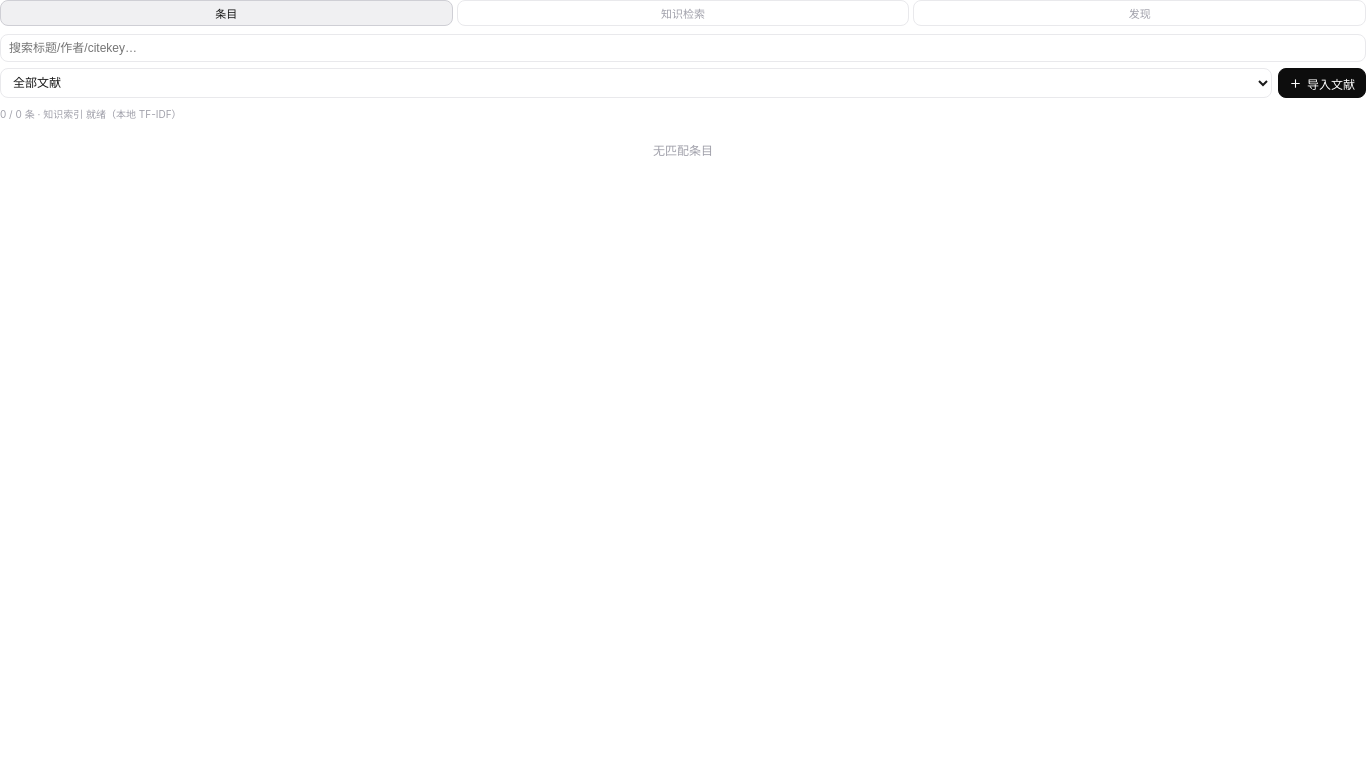
LibraryPanel · Bib 清理向导 › 自动去重 → 预览：删除条目/行数统计 + 前 3 组被删 key，确认按钮出现
Click the button "导入文献" at (1322, 83), box [1278,68,1365,98]
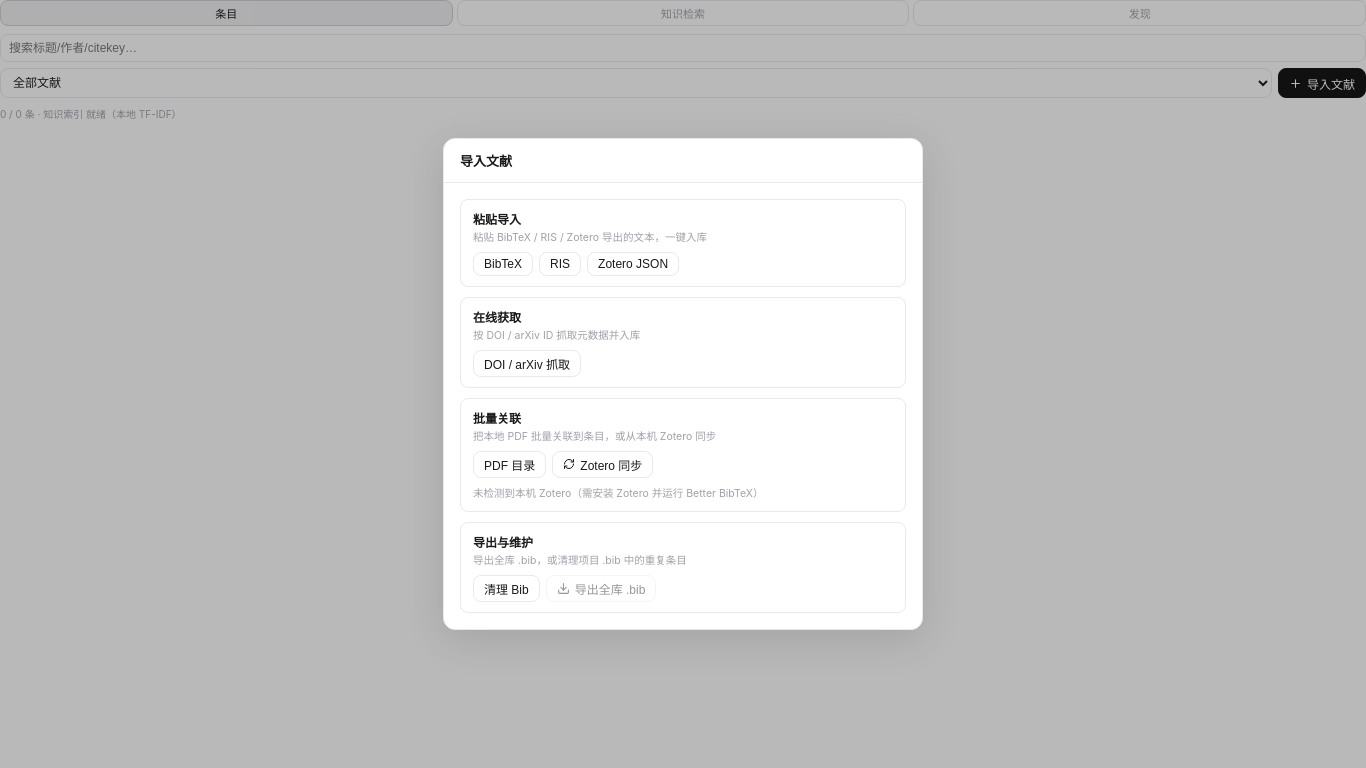
Click the button "清理 Bib" at (506, 589), box [473,575,540,602]
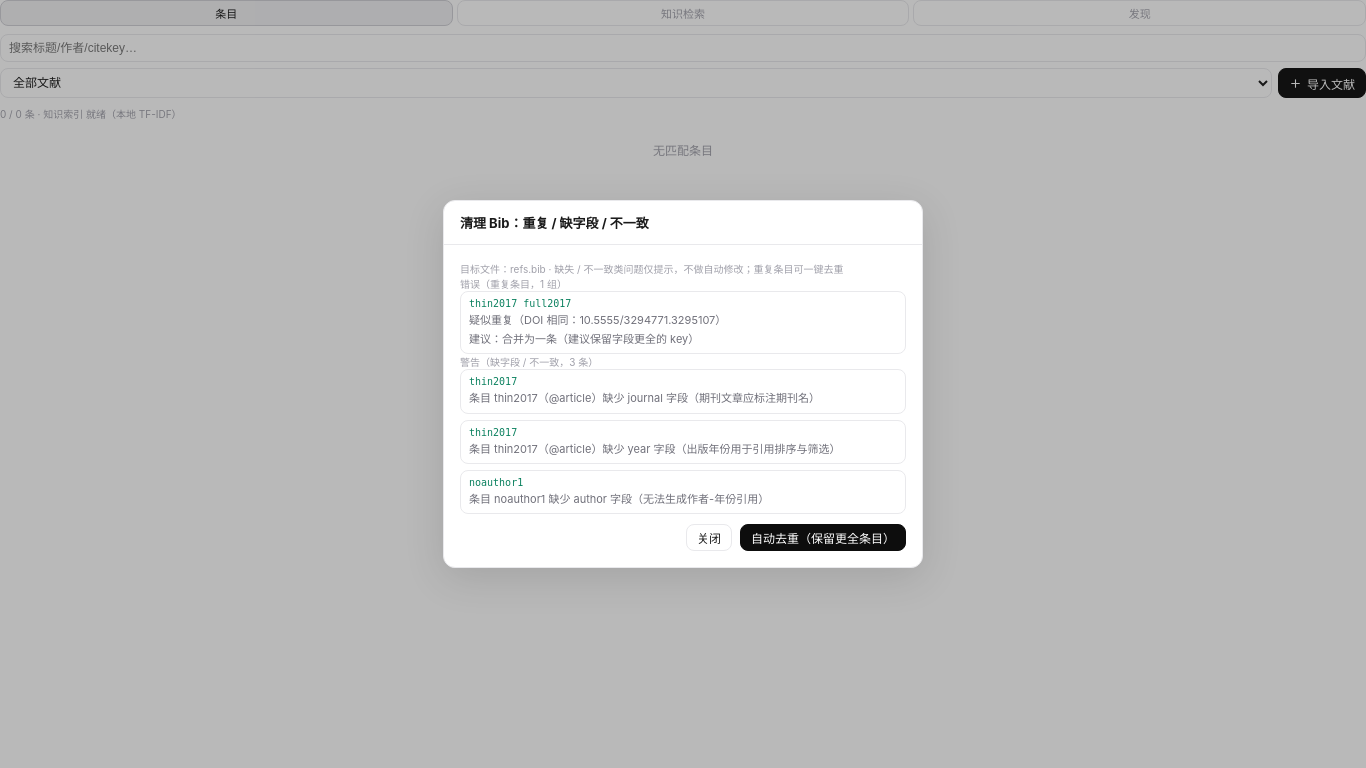
Now the element with class "sf-lib-dialog" is shown, box [443,200,923,568]
Click the button "自动去重（保留更全条目）" at (823, 538), box [740,524,906,552]
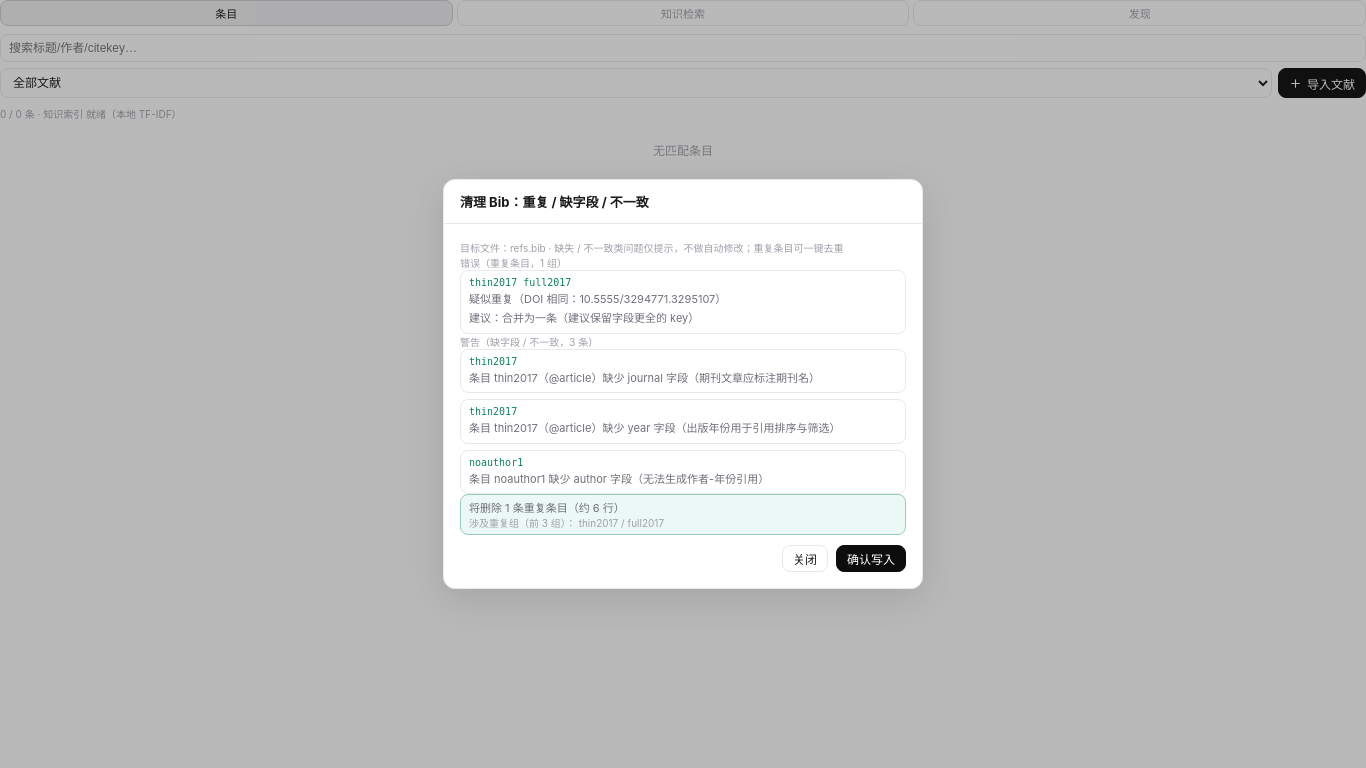
Now the element with class "sf-lib-dialog" shows "将删除 1 条重复条目", box [469,501,625,515]
Now the element with class "sf-lib-dialog" shows "约 6 行", box [469,501,625,515]
Now the element with class "sf-lib-dialog" shows "前 3 组", box [469,517,576,529]
